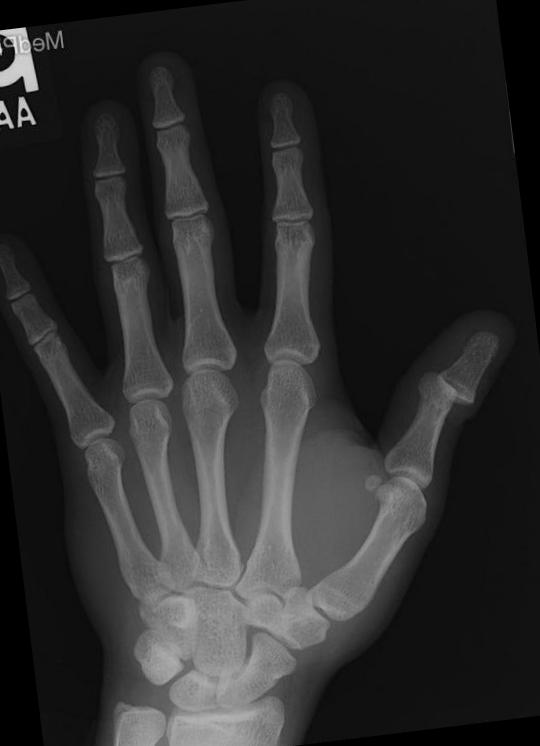fracture: (433, 367, 467, 410)
